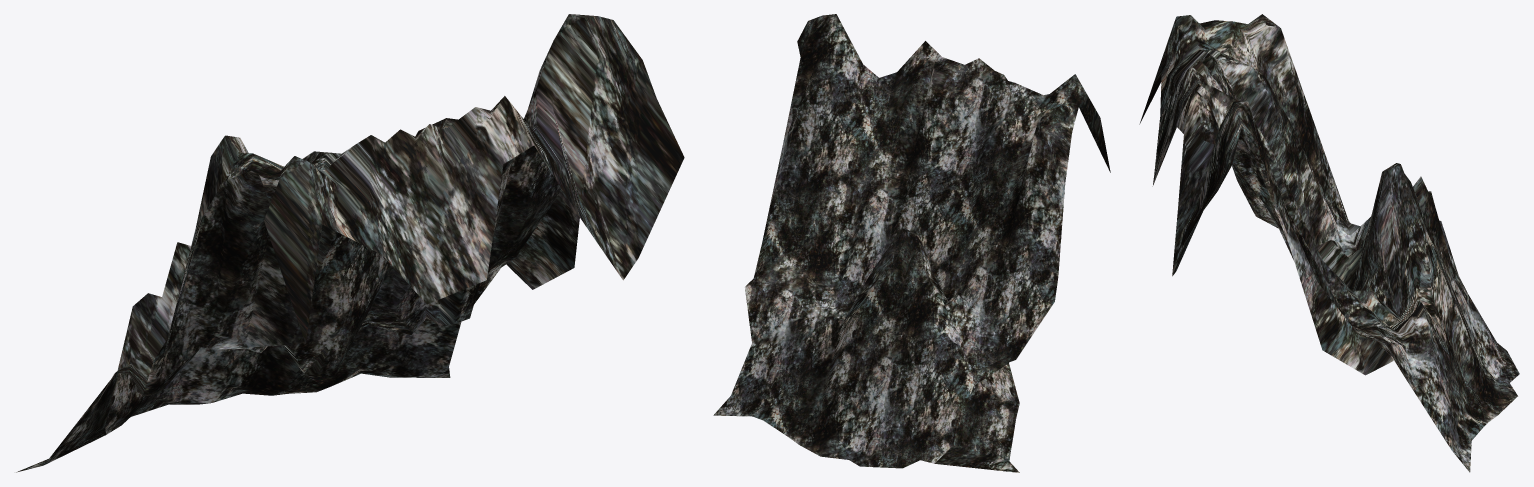
File: OVERHILL_A_01_MOUN1_OBJECT157.fbx
3 views of the same model, side by side, from view 1: azimuth 30°, elevation 25°; view 2: azimuth 150°, elevation 25°; view 3: azimuth 270°, elevation 25° (orthographic). The views are drawn at different scales.
Visible parts, largest first — view 1: OVERHILL_A_01_MOUN1_OBJECT157; view 2: OVERHILL_A_01_MOUN1_OBJECT157; view 3: OVERHILL_A_01_MOUN1_OBJECT157.
Boxes of the visible parts, box(x1,y1,x2,y2) form: OVERHILL_A_01_MOUN1_OBJECT157: box(16, 14, 684, 472); OVERHILL_A_01_MOUN1_OBJECT157: box(713, 14, 1110, 472); OVERHILL_A_01_MOUN1_OBJECT157: box(1139, 14, 1519, 472).
Bounding box in the file's own units: 358541 × 335443 × 319479.
Materials: 1 (1 with a texture image).
